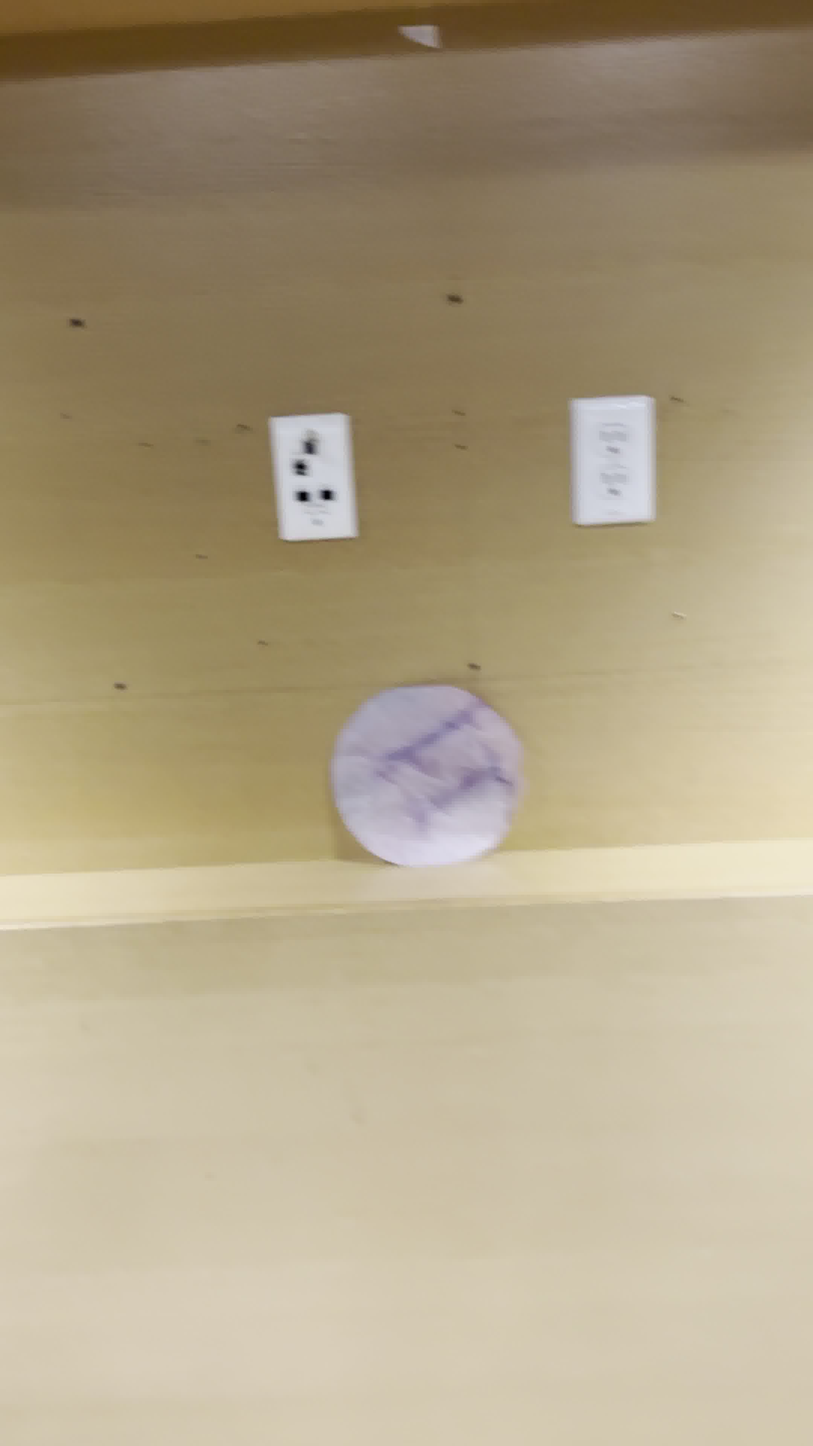Target: (322, 680, 527, 870)
